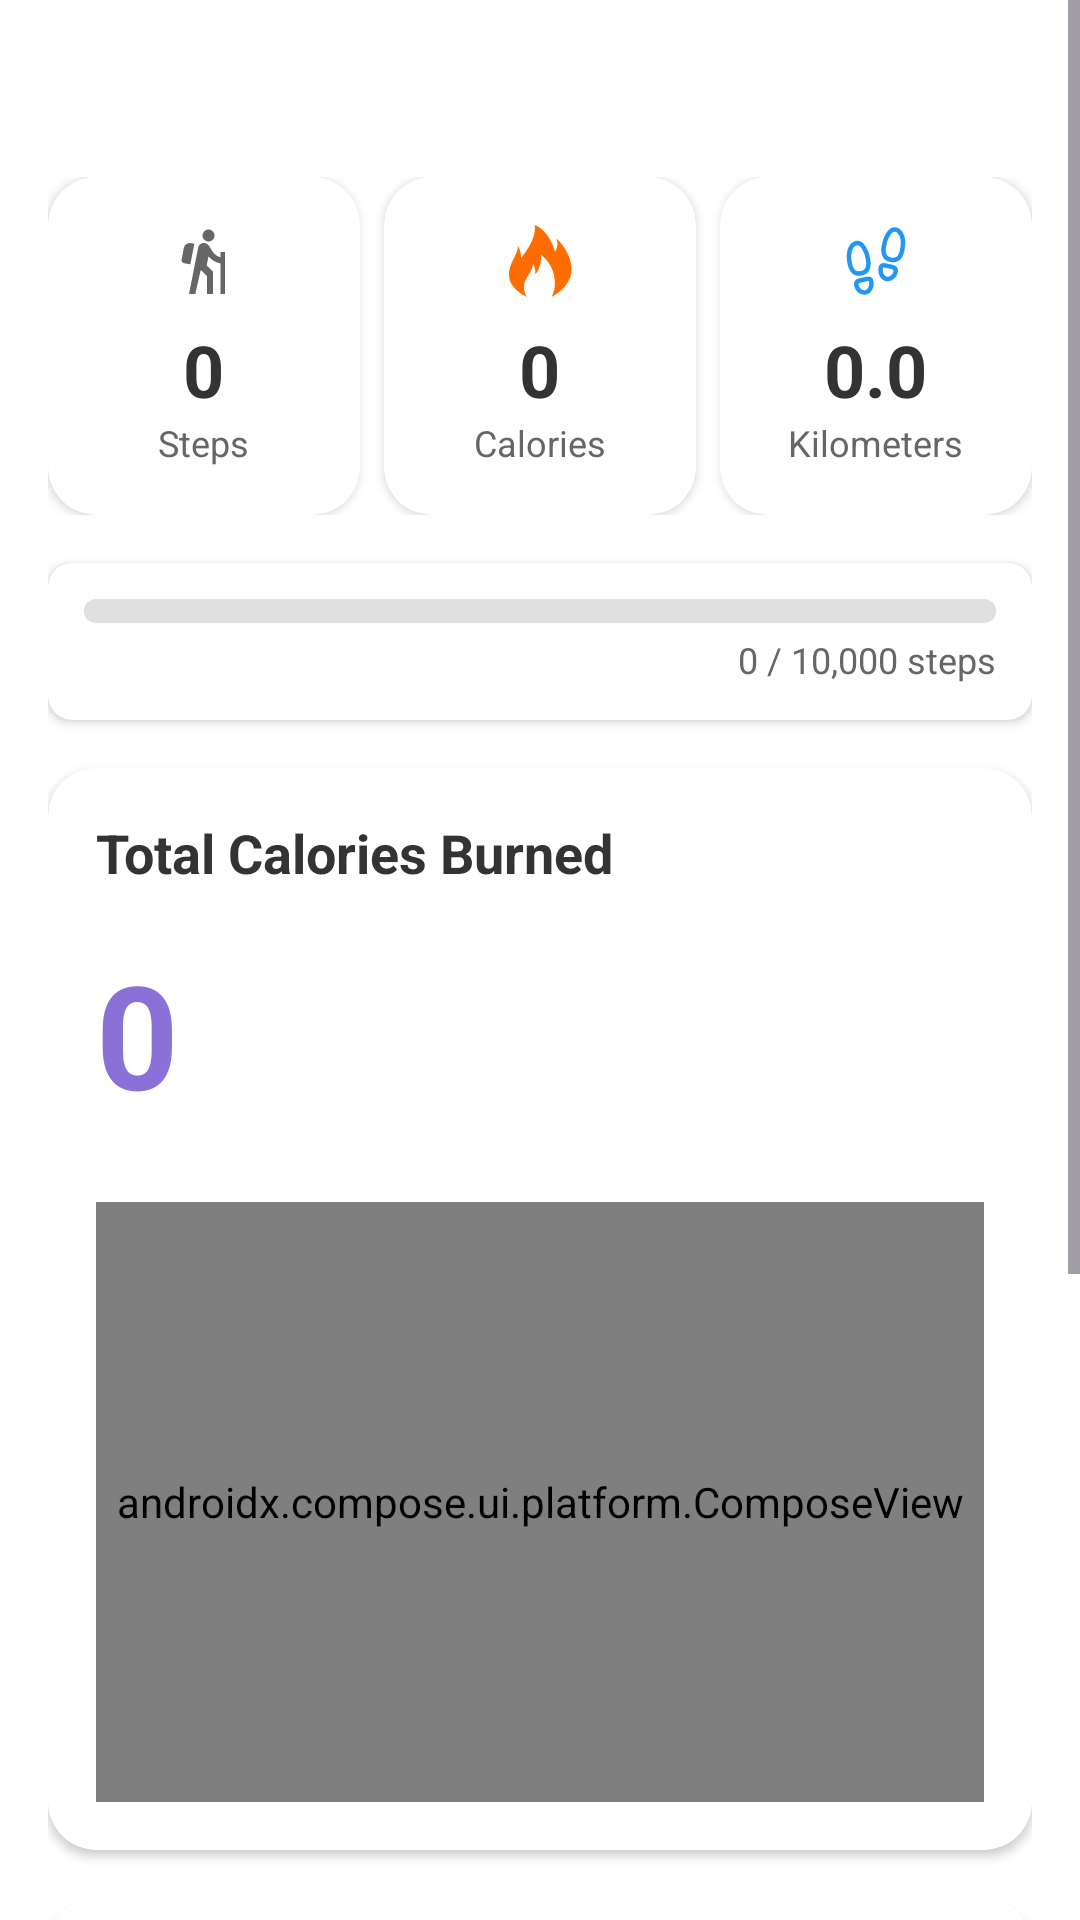

Locate icon controls on the screen. Image size 1080×1920, boxes as (x1, y1, x2, y2).
Distance icon: (846, 227, 906, 295)
